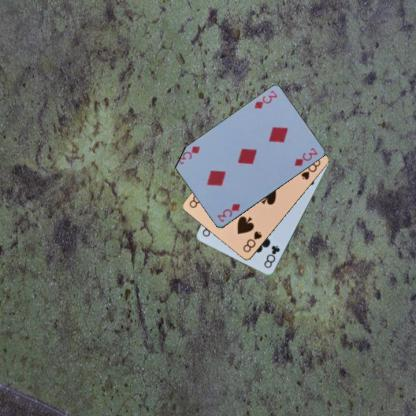3d: (214, 201, 242, 224), (251, 88, 278, 110)
8c: (262, 243, 281, 269)
8s: (240, 229, 263, 254)
